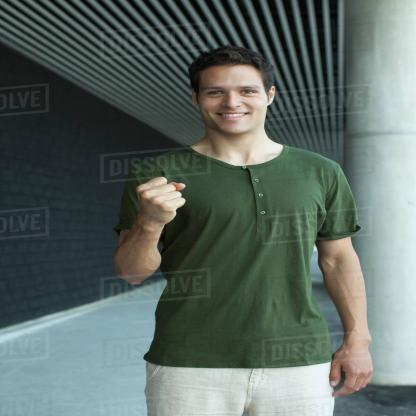fist: (128, 175, 187, 221)
